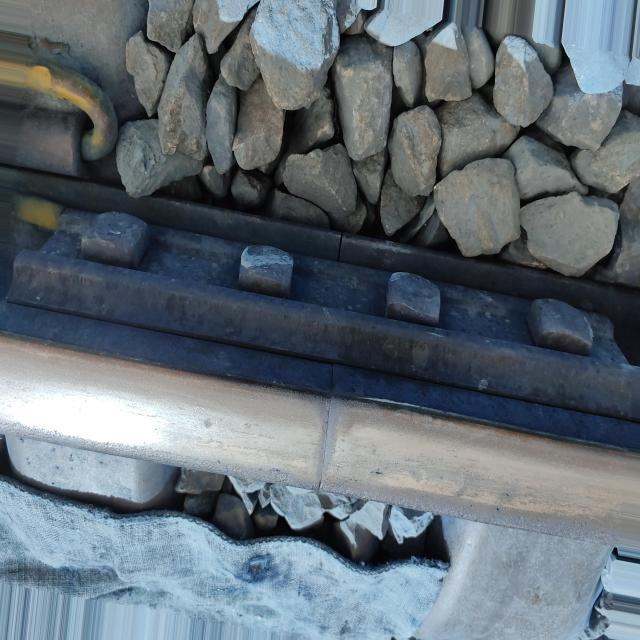Good Fasteners: (0, 31, 137, 259)
Good Joint: (0, 214, 640, 414)
